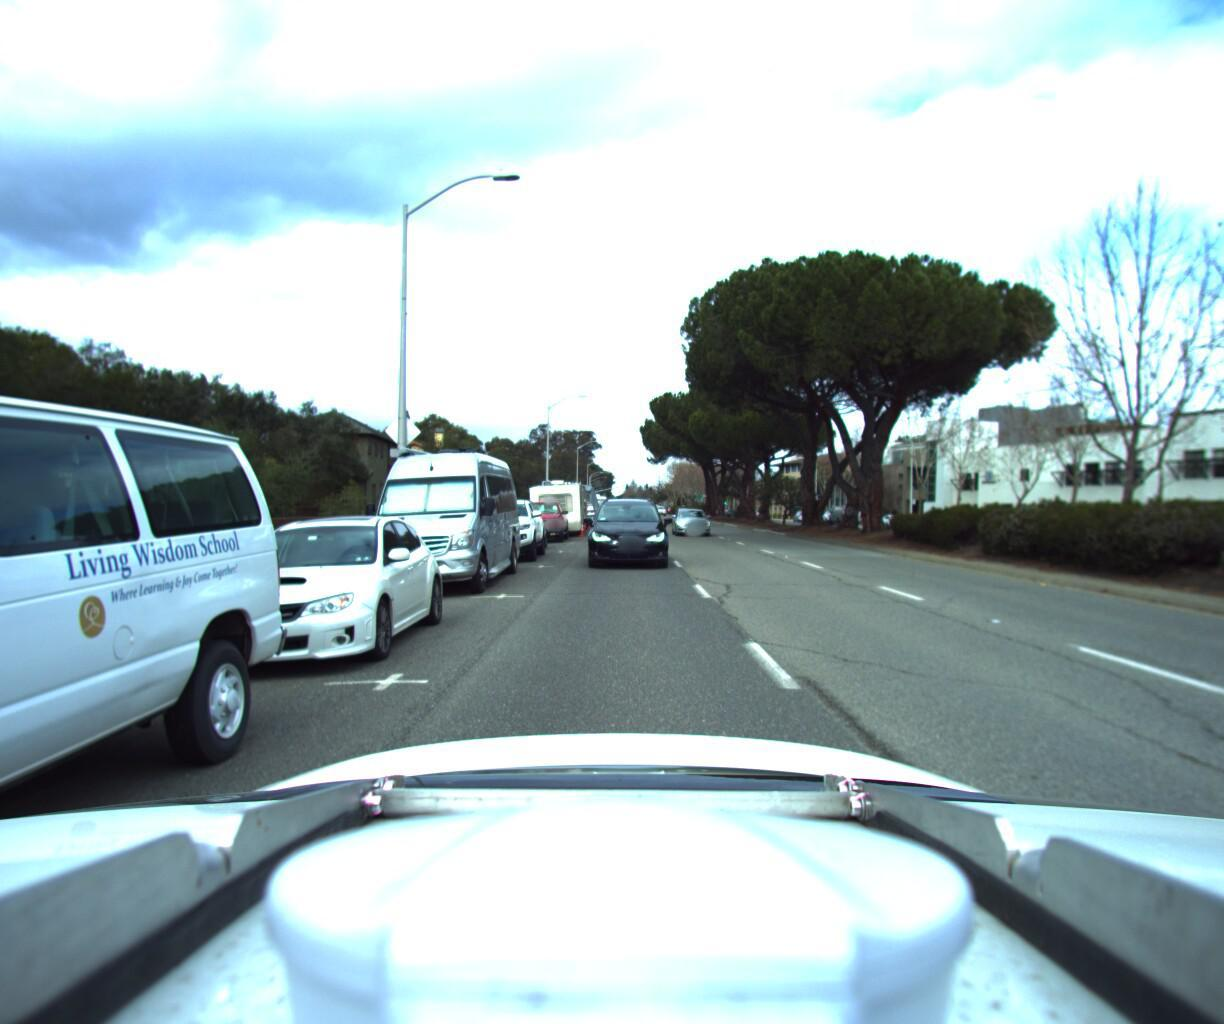bus: (557, 476, 598, 521)
car: (167, 514, 443, 688), (351, 432, 523, 604), (588, 490, 669, 567), (463, 494, 547, 562), (513, 491, 569, 541), (671, 501, 712, 533)
other_vehicle: (523, 468, 587, 533), (538, 472, 590, 526)
